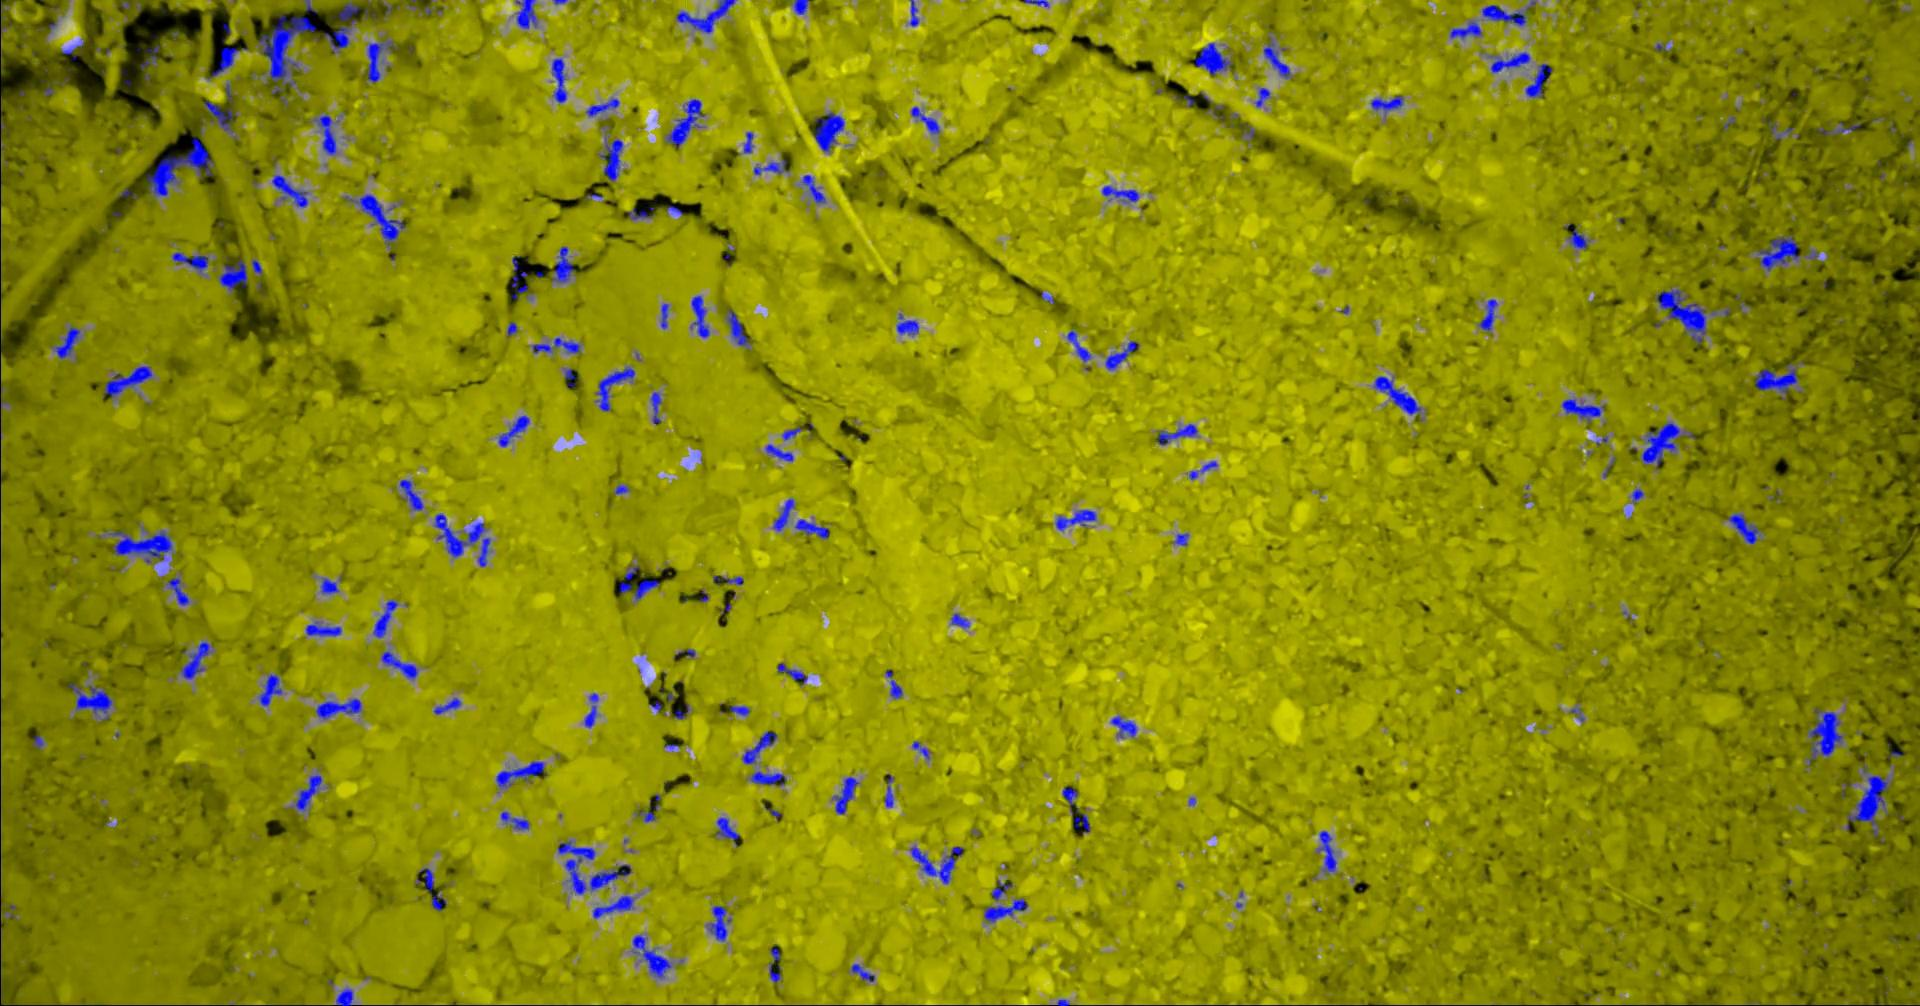ant: (433, 513, 490, 567), (1846, 775, 1888, 837), (354, 194, 404, 245), (1641, 422, 1694, 465), (108, 530, 171, 563), (1807, 708, 1843, 763), (676, 0, 735, 33), (664, 98, 703, 147), (910, 846, 963, 883), (1373, 375, 1421, 414), (632, 934, 670, 979), (596, 366, 634, 410), (67, 683, 113, 720), (1757, 235, 1799, 271), (104, 366, 151, 396), (618, 565, 659, 600), (1481, 0, 1535, 25), (811, 111, 844, 151), (367, 39, 397, 83), (495, 761, 543, 788), (1754, 363, 1797, 392), (1194, 42, 1230, 75), (270, 174, 307, 207), (182, 641, 212, 680), (742, 730, 776, 763), (1561, 398, 1603, 423), (830, 776, 858, 814), (381, 650, 417, 680), (983, 898, 1027, 921), (1726, 512, 1759, 542), (592, 895, 635, 918), (204, 100, 236, 131), (498, 415, 530, 446), (1105, 340, 1138, 370), (599, 138, 622, 180), (1263, 42, 1290, 77), (295, 775, 321, 810), (372, 600, 397, 636), (706, 904, 731, 941), (314, 113, 337, 154), (315, 699, 361, 719), (218, 259, 248, 290), (1525, 64, 1552, 97), (1157, 423, 1197, 445), (726, 310, 750, 345), (211, 46, 239, 76), (1488, 52, 1530, 72), (171, 251, 208, 274), (55, 325, 80, 358), (1055, 509, 1096, 530), (690, 295, 709, 337), (532, 337, 580, 353), (910, 105, 938, 133), (551, 246, 573, 282), (1318, 829, 1336, 873), (399, 479, 423, 511), (258, 673, 281, 706), (323, 25, 349, 53), (634, 794, 660, 822), (1065, 330, 1090, 361), (510, 255, 527, 298), (772, 498, 794, 531), (801, 174, 825, 203), (715, 817, 739, 846), (776, 662, 808, 683), (794, 520, 829, 539), (165, 577, 189, 605), (551, 58, 566, 102), (585, 97, 618, 116), (1478, 298, 1497, 332), (1110, 715, 1137, 738), (1817, 121, 1860, 135), (1370, 95, 1403, 113), (1101, 185, 1139, 201), (516, 0, 536, 28), (1449, 20, 1481, 38), (305, 621, 342, 636), (749, 770, 786, 785), (753, 159, 789, 174), (500, 810, 528, 829), (764, 443, 792, 461), (1189, 461, 1217, 479), (895, 312, 918, 334), (338, 0, 358, 24), (885, 669, 902, 699), (584, 692, 598, 727), (1062, 786, 1078, 814), (140, 44, 159, 69), (433, 697, 460, 714), (1568, 227, 1589, 249), (990, 879, 1011, 901), (850, 963, 874, 981), (650, 391, 662, 423), (910, 741, 930, 760), (1072, 813, 1090, 833), (320, 577, 339, 594), (883, 775, 893, 807), (419, 868, 433, 890), (335, 988, 353, 1005), (950, 612, 969, 627), (430, 890, 446, 909), (1255, 86, 1269, 107), (781, 426, 801, 439), (627, 207, 651, 218), (0, 0, 8, 36), (712, 575, 743, 584), (1768, 119, 1782, 138), (564, 368, 577, 387), (791, 0, 808, 14), (674, 702, 688, 719), (909, 0, 918, 25), (743, 131, 753, 152), (728, 705, 749, 715), (770, 962, 780, 983), (1630, 488, 1643, 503), (1173, 532, 1189, 545), (660, 304, 668, 328), (251, 259, 262, 274), (1023, 0, 1048, 6), (32, 735, 43, 748)
